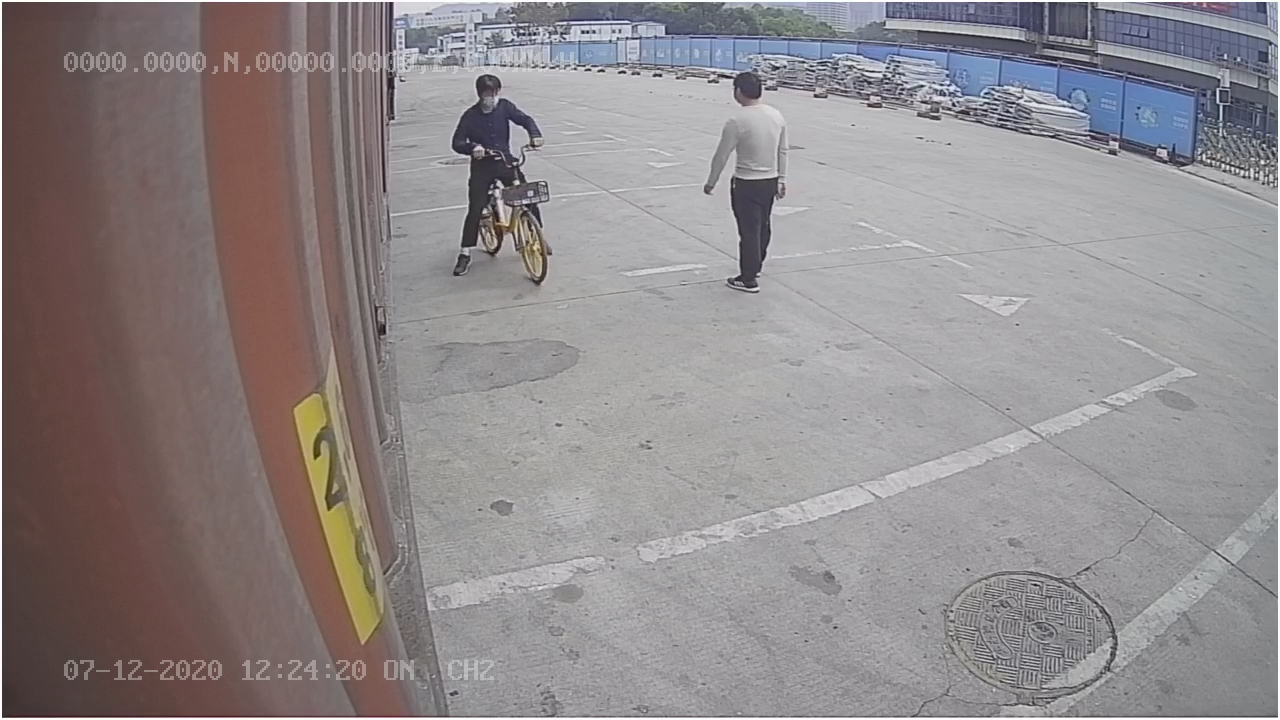person: (699, 67, 794, 293)
